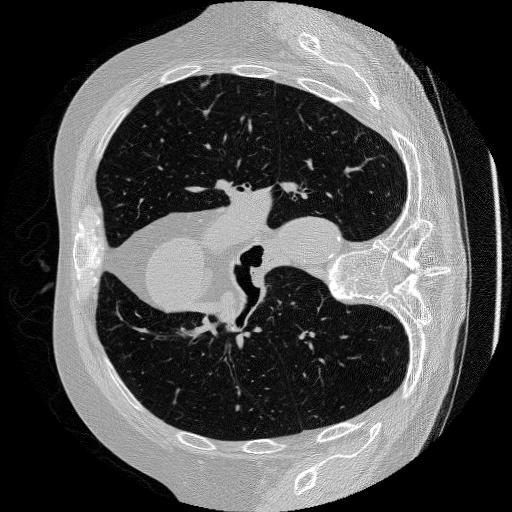nodule: (232, 404, 243, 415)
